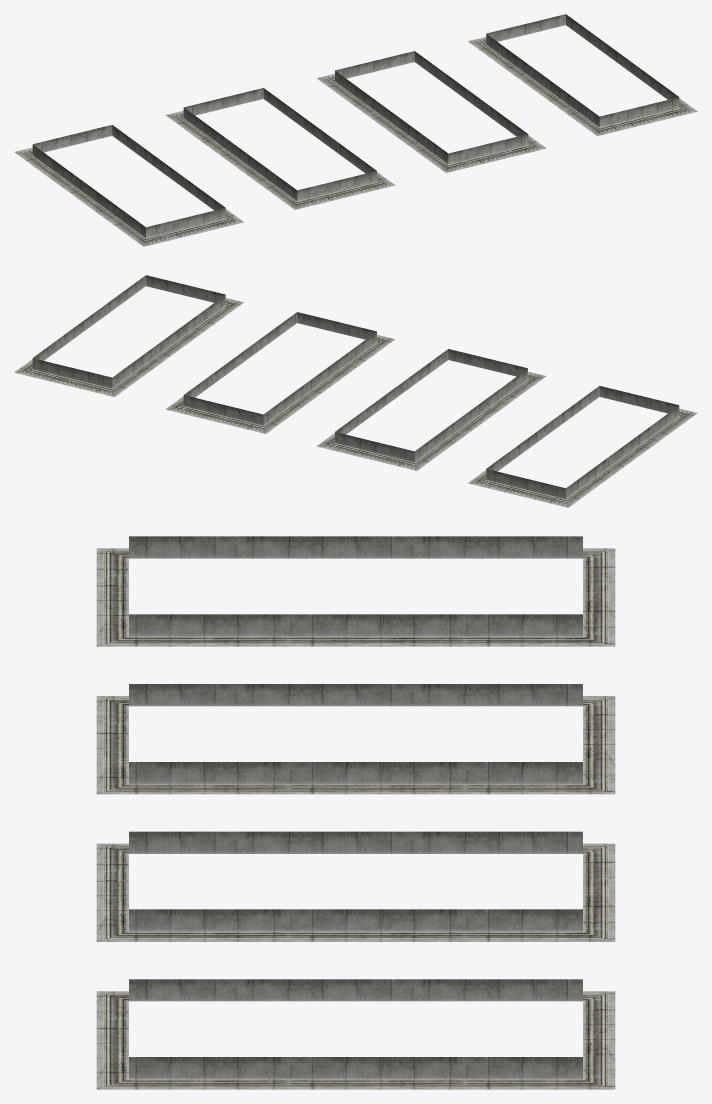
The model's file is KnightCastle_Hallway_Ceiling.FBX.
The picture shows the model from 3 angles, top to bottom: view 1: azimuth 30°, elevation 25°; view 2: azimuth 150°, elevation 25°; view 3: azimuth 270°, elevation 25°; orthographic projection. The views are drawn at different scales.
Visible parts, largest first — view 1: SM_KnightCastle_Hallway_Ceiling; view 2: SM_KnightCastle_Hallway_Ceiling; view 3: SM_KnightCastle_Hallway_Ceiling.
Part boxes in pixels (box(x1,y1,x2,y2)): SM_KnightCastle_Hallway_Ceiling: box(14, 14, 697, 246); SM_KnightCastle_Hallway_Ceiling: box(14, 275, 697, 507); SM_KnightCastle_Hallway_Ceiling: box(96, 536, 615, 1089).
Size of what is drawn, in the model's own units: 2052 by 831 by 39.35.
